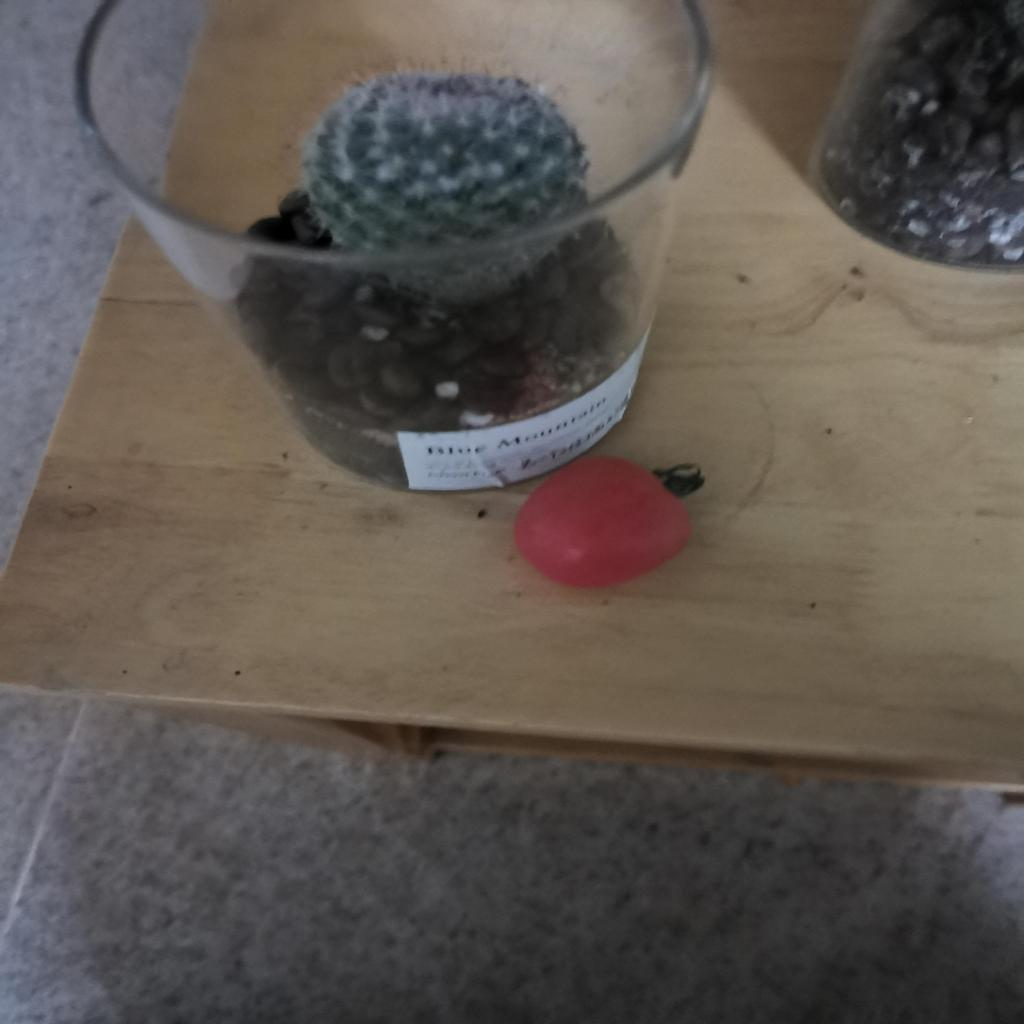tomato: (511, 447, 707, 594)
